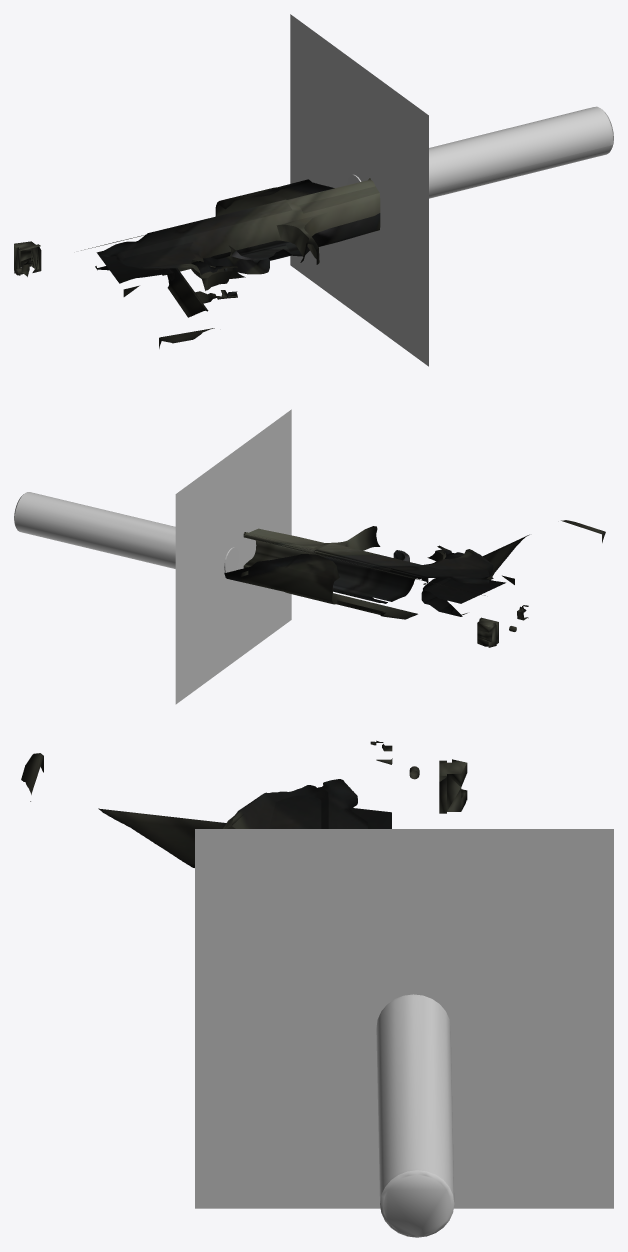
File: walter.obj
3 views of the same model, one above another, from view 1: azimuth 30°, elevation 25°; view 2: azimuth 150°, elevation 25°; view 3: azimuth 270°, elevation 25° (orthographic). The views are drawn at different scales.
Parts seen in each view (by area): view 1: flashModel, gunModel, OGFObject1, slideModel, ammoModel; view 2: flashModel, gunModel, OGFObject1, slideModel, ammoModel; view 3: flashModel, OGFObject1, gunModel, ammoModel, slideModel.
Part boxes in pixels (bbox=[...]): flashModel: bbox=[290, 14, 428, 366]; gunModel: bbox=[96, 178, 380, 303]; OGFObject1: bbox=[347, 106, 613, 198]; slideModel: bbox=[14, 179, 334, 276]; ammoModel: bbox=[95, 251, 214, 348]; flashModel: bbox=[175, 409, 291, 704]; gunModel: bbox=[243, 526, 493, 613]; OGFObject1: bbox=[14, 492, 239, 572]; slideModel: bbox=[224, 539, 528, 647]; ammoModel: bbox=[421, 520, 605, 616]; flashModel: bbox=[195, 829, 613, 1208]; OGFObject1: bbox=[376, 994, 454, 1237]; gunModel: bbox=[223, 779, 367, 828]; ammoModel: bbox=[21, 753, 391, 867]; slideModel: bbox=[370, 740, 467, 813].
Bounding box in the file's own units: 12.35 × 5.03 × 7.21.
